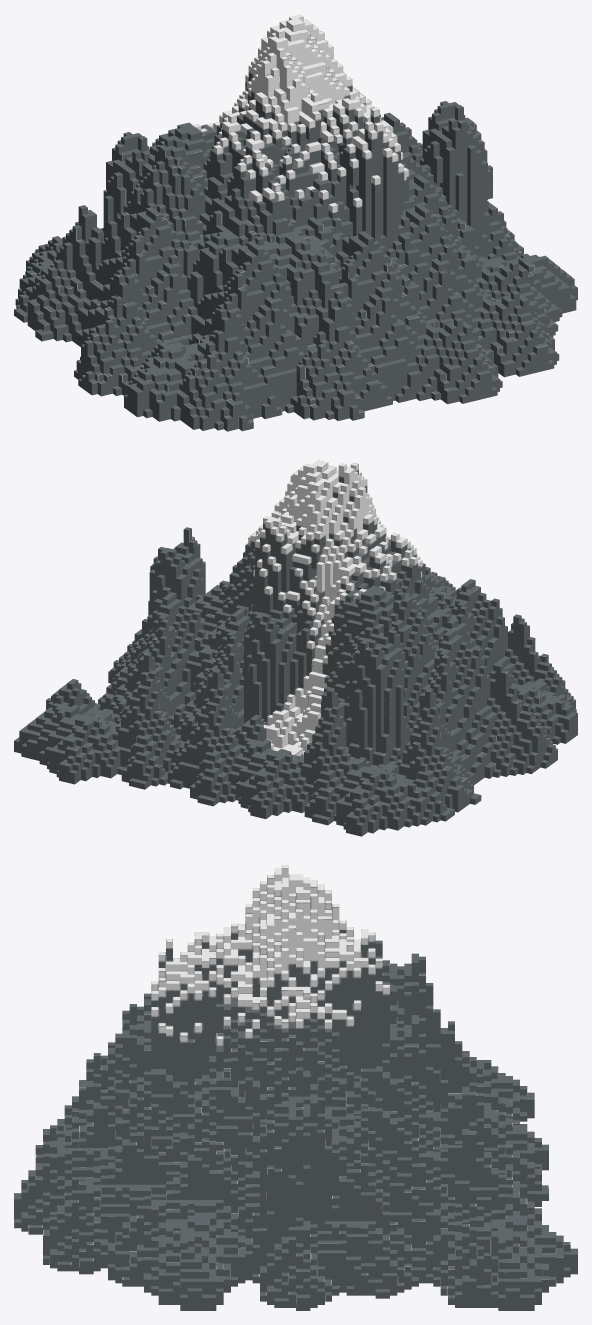
The model's file is big_rocks_2_overtile.glb.
The picture shows the model from 3 angles, top to bottom: view 1: azimuth 30°, elevation 25°; view 2: azimuth 150°, elevation 25°; view 3: azimuth 270°, elevation 25°; orthographic projection. The views are drawn at different scales.
Parts seen in each view (by area): view 1: big_rocks_2_overtile; view 2: big_rocks_2_overtile; view 3: big_rocks_2_overtile.
Boxes of the visible parts, <box> form: big_rocks_2_overtile: <box>14,14,577,431</box>; big_rocks_2_overtile: <box>14,460,577,836</box>; big_rocks_2_overtile: <box>14,865,577,1310</box>.
Size of the model in its own units: 7.9 by 4.8 by 7.8.
Materials: 1 (1 with a texture image).
